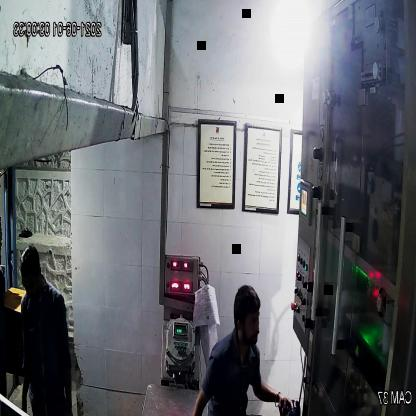no_goggles: (234, 310, 264, 332)
